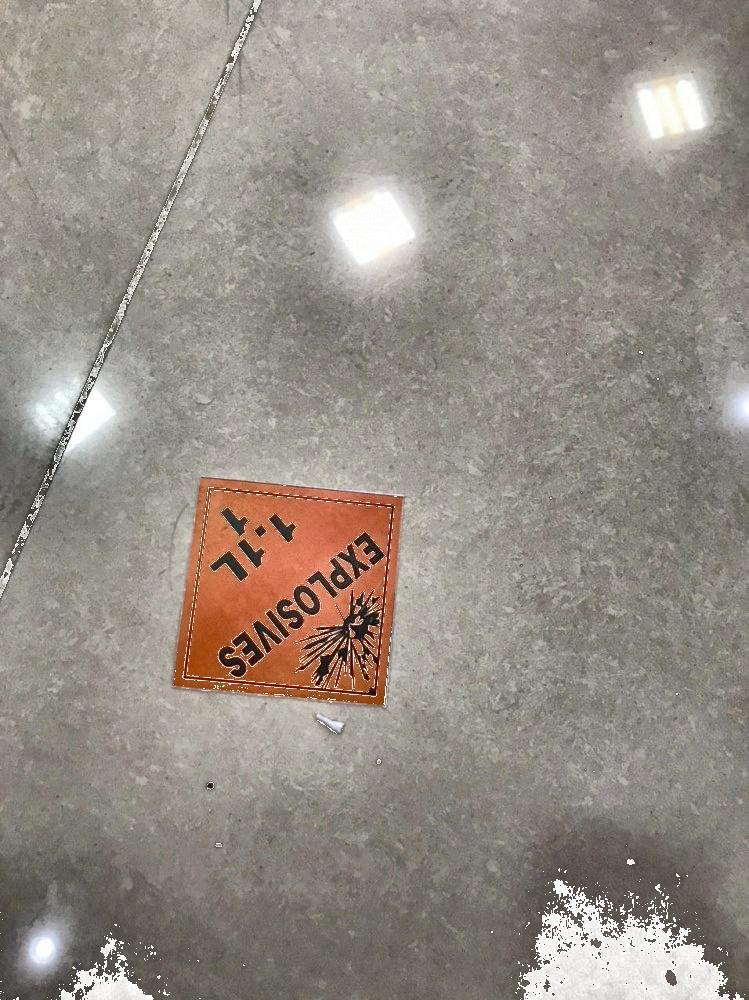explosive: (170, 473, 407, 712)
